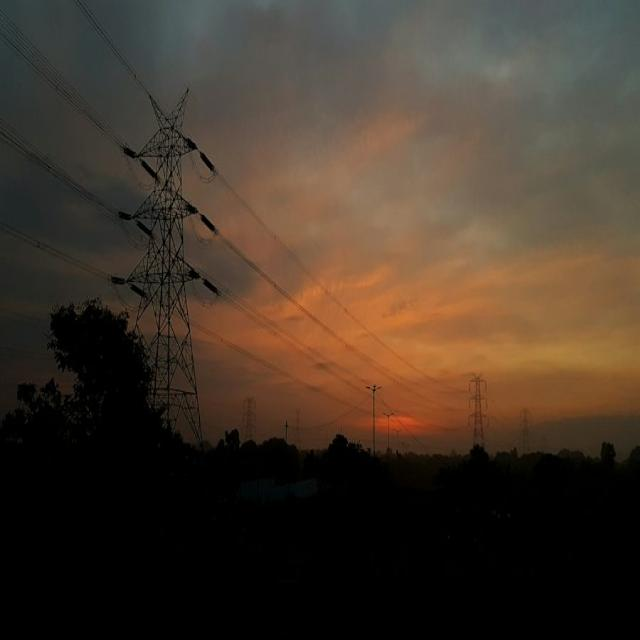transmission tower: (97, 56, 220, 436)
